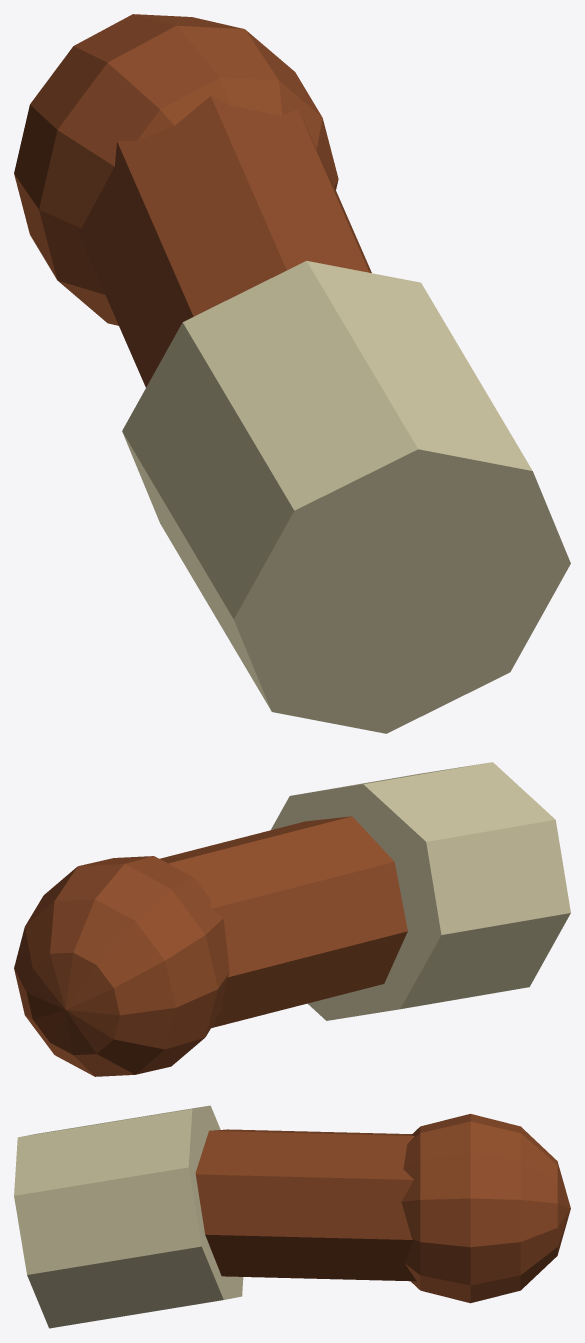
The model's file is Resident10LeftArm.obj.
3 renders of one model, top to bottom at view 1: azimuth 30°, elevation 25°; view 2: azimuth 150°, elevation 25°; view 3: azimuth 270°, elevation 25°, orthographic. The views are drawn at different scales.
Visible parts, largest first — view 1: Resident10LeftArm; view 2: Resident10LeftArm; view 3: Resident10LeftArm.
Boxes of the visible parts, x1,y1,x2,y2 form: Resident10LeftArm: [14, 14, 570, 733]; Resident10LeftArm: [14, 762, 570, 1076]; Resident10LeftArm: [14, 1105, 570, 1328].
Size of the model in its own units: 33.37 by 30.65 by 63.77.
